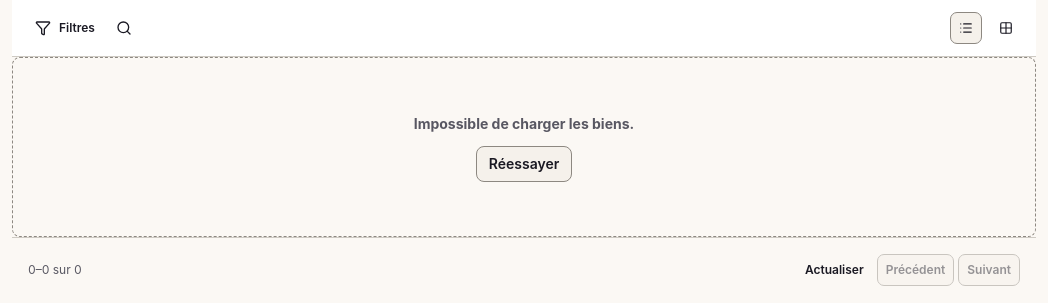
Test: PropertiesView › shows a retry state when the initial list request fails
Expected: the message "Impossible de charger les biens. Réessayer" is shown, [12,57,1036,237]
Click the button "Réessayer". click: coordinates (524, 164)
box: [476,146,572,182]
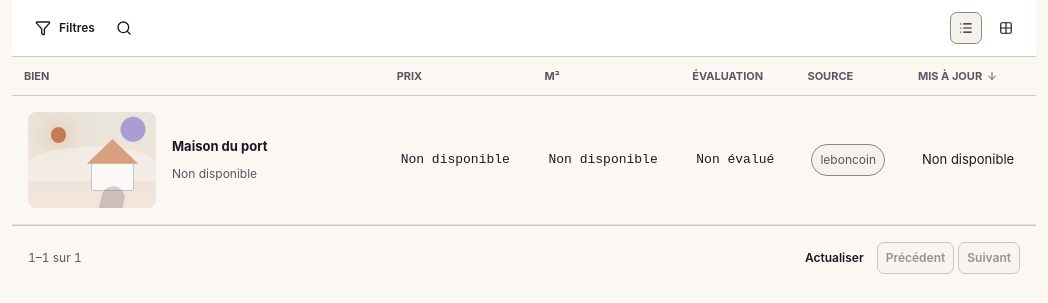
Expected: the table named "Table" is shown, [12,57,1036,225]
Expected: the message "Impossible de charger les biens. Réessayer" is gone
